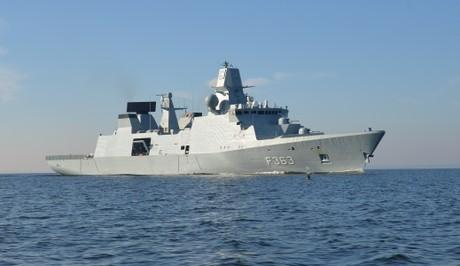MIL_Ship: (43, 64, 387, 177)
